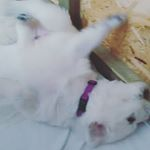puppy: (73, 66, 147, 150)
